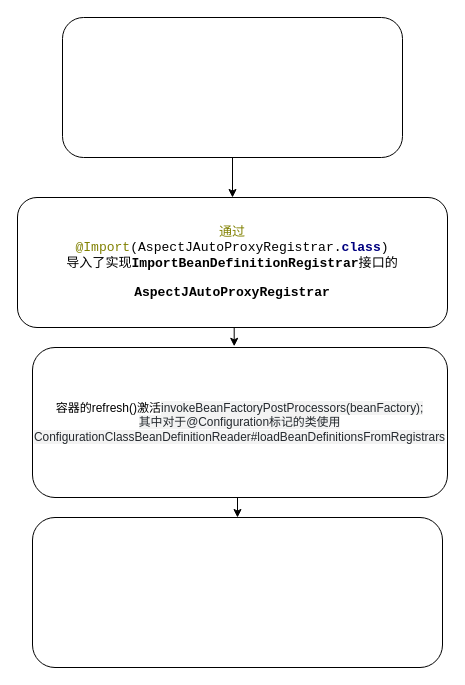
The diagram is 465 pixels wide and 685 high, and some of its shapes have lost their labels. The shapes that lost their labels are listed below. From the top down, each one's centre as x and y in pixels, then its label:
At [232,87]: "@EnableAspectJAutoProxy标注在启动类上， 通常为@Configuration注解标记的类".
At [237,592]: "通过传入的registry注册 AnnotationAwareAspectJAutoProxyCreator,用于解析被@AspectJ标记的类.".
